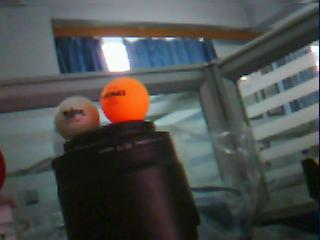oball: (101, 76, 148, 122)
